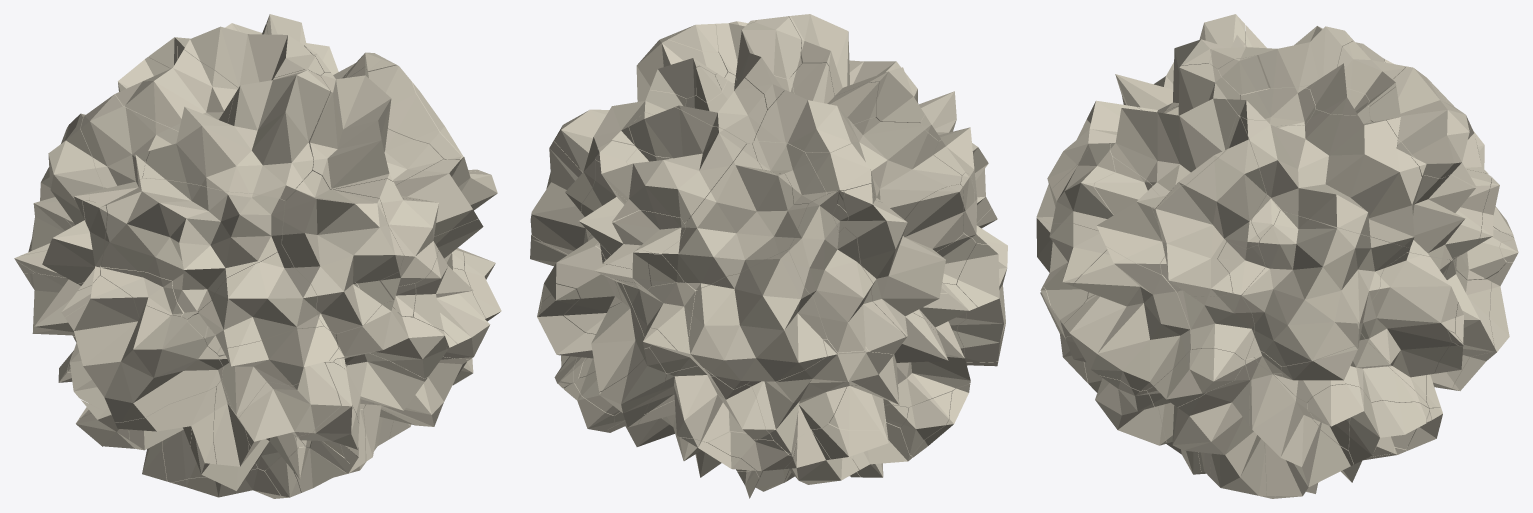
File: stone_ex.glb
3 renders of one model, left to right at view 1: azimuth 30°, elevation 25°; view 2: azimuth 150°, elevation 25°; view 3: azimuth 270°, elevation 25°, orthographic.
Visible parts, largest first — view 1: Icosphere_cell.017, Icosphere_cell.081, Icosphere_cell.052, Icosphere_cell.057, Icosphere_cell.018, Icosphere_cell.009, Icosphere_cell.041, Icosphere_cell.073, Icosphere_cell.071, Icosphere_cell.004, Icosphere_cell.029, Icosphere_cell.003 (+28 smaller); view 2: Icosphere_cell.012, Icosphere_cell.010, Icosphere_cell.041, Icosphere_cell.027, Icosphere_cell.080, Icosphere_cell.073, Icosphere_cell.033, Icosphere_cell.004, Icosphere_cell.011, Icosphere_cell.058, Icosphere_cell.085, Icosphere_cell.038 (+31 smaller); view 3: Icosphere_cell.033, Icosphere_cell.072, Icosphere_cell.091, Icosphere_cell.062, Icosphere_cell.018, Icosphere_cell.094, Icosphere_cell.044, Icosphere_cell.039, Icosphere_cell.027, Icosphere_cell.045, Icosphere_cell.085, Icosphere_cell.053 (+24 smaller).
Part boxes in pixels (x1=…): Icosphere_cell.017: x1=100, y1=178, x2=285, y2=319; Icosphere_cell.081: x1=142, y1=69, x2=330, y2=200; Icosphere_cell.052: x1=65, y1=275, x2=223, y2=422; Icosphere_cell.057: x1=282, y1=171, x2=403, y2=333; Icosphere_cell.018: x1=308, y1=67, x2=442, y2=189; Icosphere_cell.009: x1=187, y1=245, x2=323, y2=356; Icosphere_cell.041: x1=14, y1=118, x2=103, y2=290; Icosphere_cell.073: x1=80, y1=94, x2=178, y2=205; Icosphere_cell.071: x1=219, y1=326, x2=338, y2=417; Icosphere_cell.004: x1=115, y1=50, x2=238, y2=131; Icosphere_cell.029: x1=184, y1=26, x2=324, y2=87; Icosphere_cell.003: x1=233, y1=348, x2=344, y2=446; Icosphere_cell.012: x1=683, y1=249, x2=826, y2=389; Icosphere_cell.010: x1=662, y1=143, x2=808, y2=290; Icosphere_cell.041: x1=843, y1=183, x2=963, y2=337; Icosphere_cell.027: x1=594, y1=107, x2=746, y2=223; Icosphere_cell.080: x1=789, y1=190, x2=905, y2=354; Icosphere_cell.073: x1=805, y1=117, x2=961, y2=219; Icosphere_cell.033: x1=554, y1=32, x2=727, y2=211; Icosphere_cell.004: x1=754, y1=63, x2=878, y2=152; Icosphere_cell.011: x1=746, y1=335, x2=893, y2=455; Icosphere_cell.058: x1=538, y1=280, x2=645, y2=415; Icosphere_cell.085: x1=579, y1=148, x2=688, y2=286; Icosphere_cell.038: x1=644, y1=366, x2=773, y2=442; Icosphere_cell.033: x1=1240, y1=109, x2=1421, y2=247; Icosphere_cell.072: x1=1242, y1=211, x2=1409, y2=366; Icosphere_cell.091: x1=1063, y1=246, x2=1191, y2=390; Icosphere_cell.062: x1=1152, y1=114, x2=1266, y2=296; Icosphere_cell.018: x1=1110, y1=63, x2=1240, y2=199; Icosphere_cell.094: x1=1361, y1=252, x2=1457, y2=401; Icosphere_cell.044: x1=1245, y1=357, x2=1353, y2=497; Icosphere_cell.039: x1=1172, y1=360, x2=1267, y2=496; Icosphere_cell.027: x1=1369, y1=66, x2=1476, y2=187; Icosphere_cell.045: x1=1177, y1=193, x2=1294, y2=359; Icosphere_cell.085: x1=1373, y1=139, x2=1490, y2=259; Icosphere_cell.053: x1=1094, y1=157, x2=1164, y2=274.
Size of the model in its own units: 2.28 by 2.3 by 2.28.
